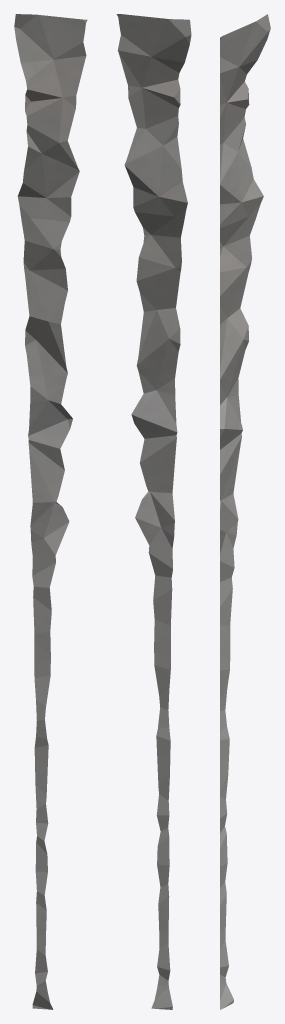
3 renders of one model, left to right at view 1: azimuth 30°, elevation 25°; view 2: azimuth 210°, elevation 25°; view 3: azimuth 270°, elevation 25°, orthographic. The views are drawn at different scales.
Bounding box in the file's own units: 0.0431 × 0.8373 × 0.0389.
Materials: 1 (1 with a texture image).
